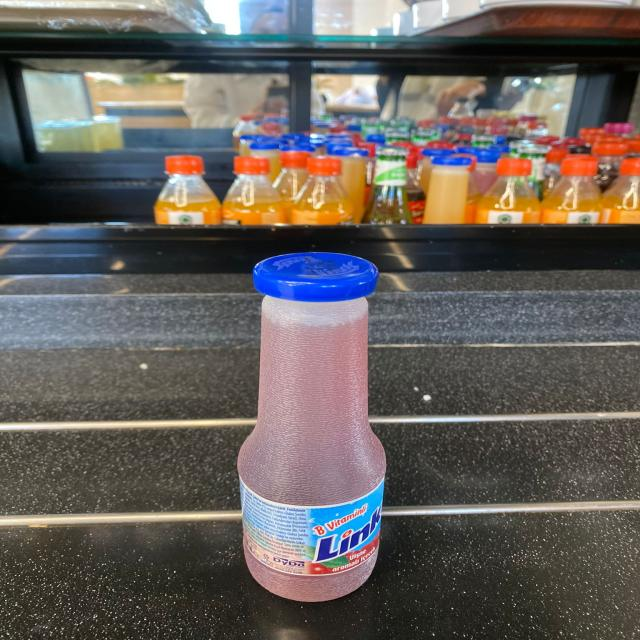yan_yemek: (235, 252, 388, 602)
